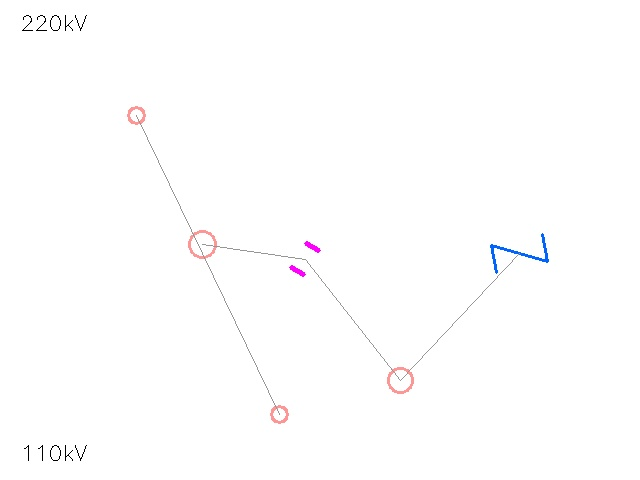capacitor: (282, 236, 328, 282)
circuit_breaker: (490, 224, 548, 282)
current_transformer: (375, 355, 425, 405)
feeder_terminal: (175, 217, 229, 271)
voltage_transformer: (119, 98, 153, 132), (263, 398, 295, 430)
